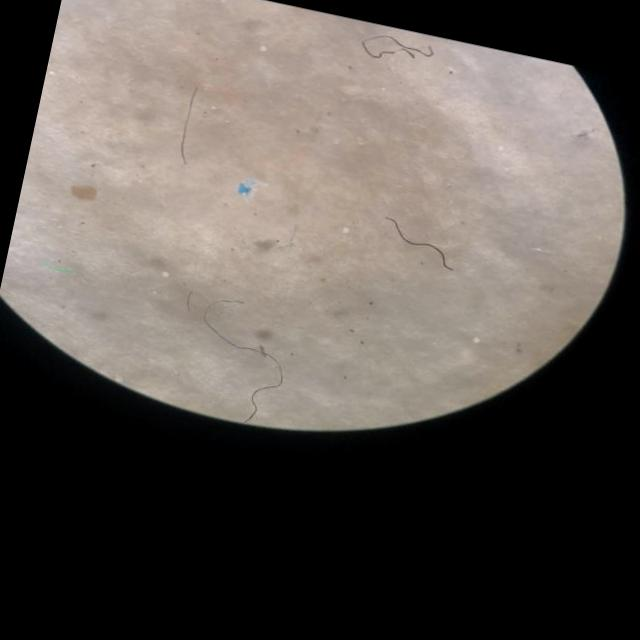fiber: (205, 316, 284, 423), (388, 217, 453, 270), (363, 35, 433, 60), (180, 90, 198, 164)
film: (238, 180, 258, 197)
fragment: (71, 185, 96, 201)
pellet: (473, 337, 479, 343), (498, 145, 504, 150), (260, 46, 266, 51), (344, 228, 349, 233), (163, 272, 169, 276)
